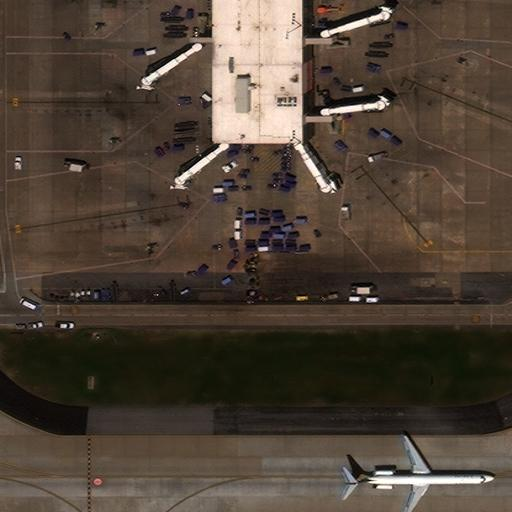Medium Civil Transport: (340, 434, 498, 512)
